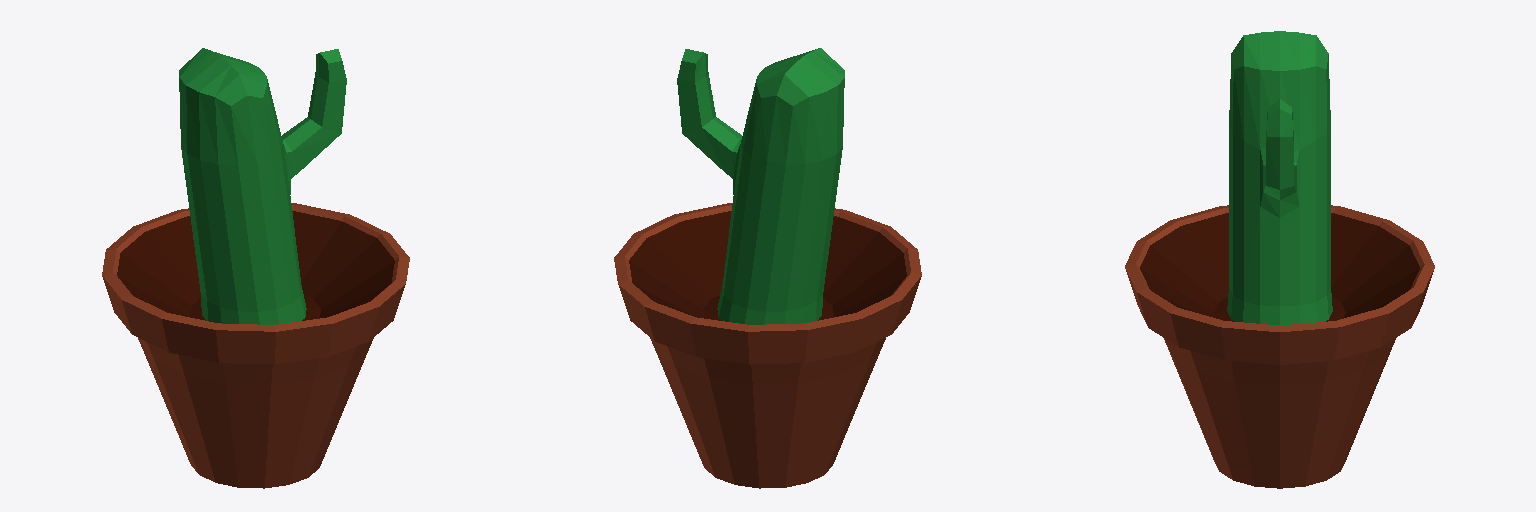
3 views of the same model, side by side, from view 1: azimuth 30°, elevation 25°; view 2: azimuth 150°, elevation 25°; view 3: azimuth 270°, elevation 25° (orthographic).
Parts seen in each view (by area): view 1: Plant; view 2: Plant; view 3: Plant.
Boxes of the visible parts, <box> form: Plant: <box>102,48,409,488</box>; Plant: <box>614,48,921,488</box>; Plant: <box>1125,31,1434,488</box>.
Size of the model in its own units: 1.7 by 2.5 by 1.7.
3 materials, 3 textured.